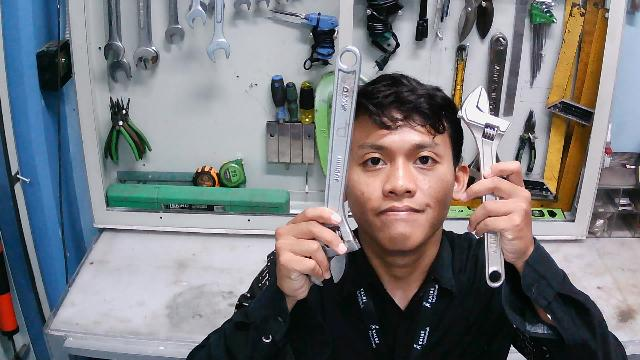kunci_inggris: (306, 46, 370, 288), (456, 84, 514, 290)
